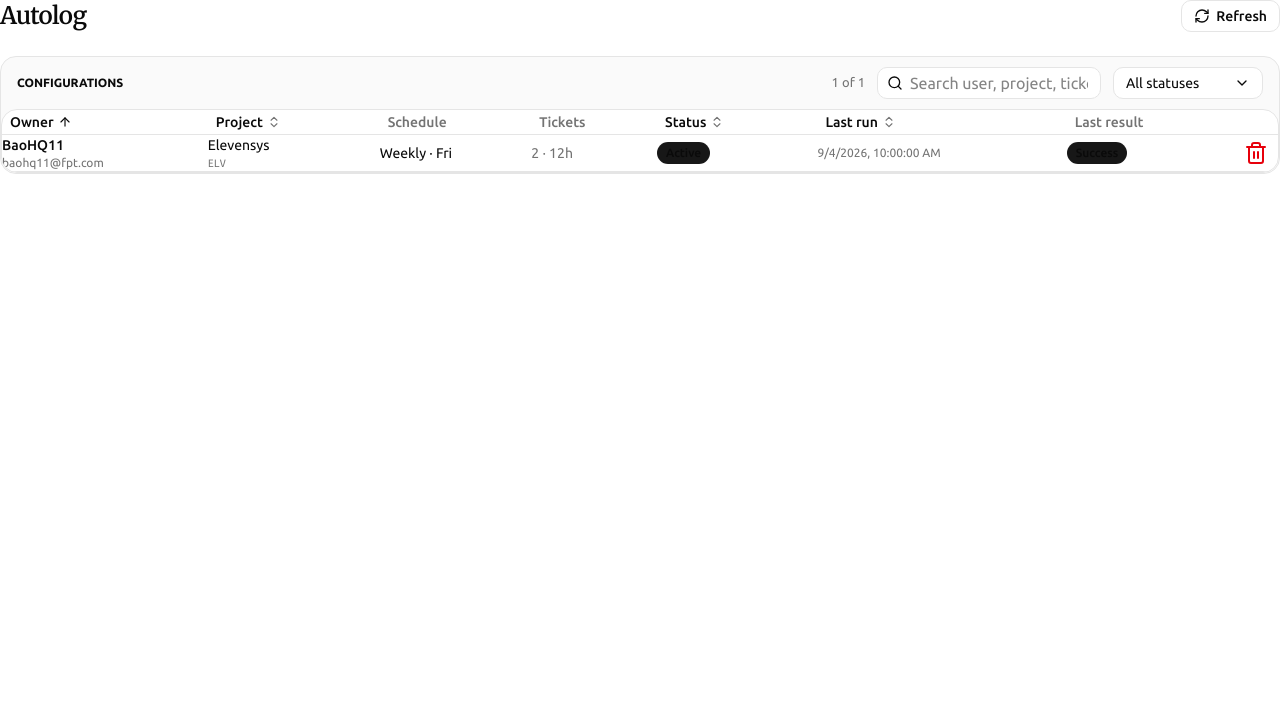
Test: AutologTable › names the owner in the delete confirmation
Click the button named "Delete the Elevensys configuration for BaoHQ11" at (1256, 153), box x1=1238 y1=135 x2=1274 y2=171
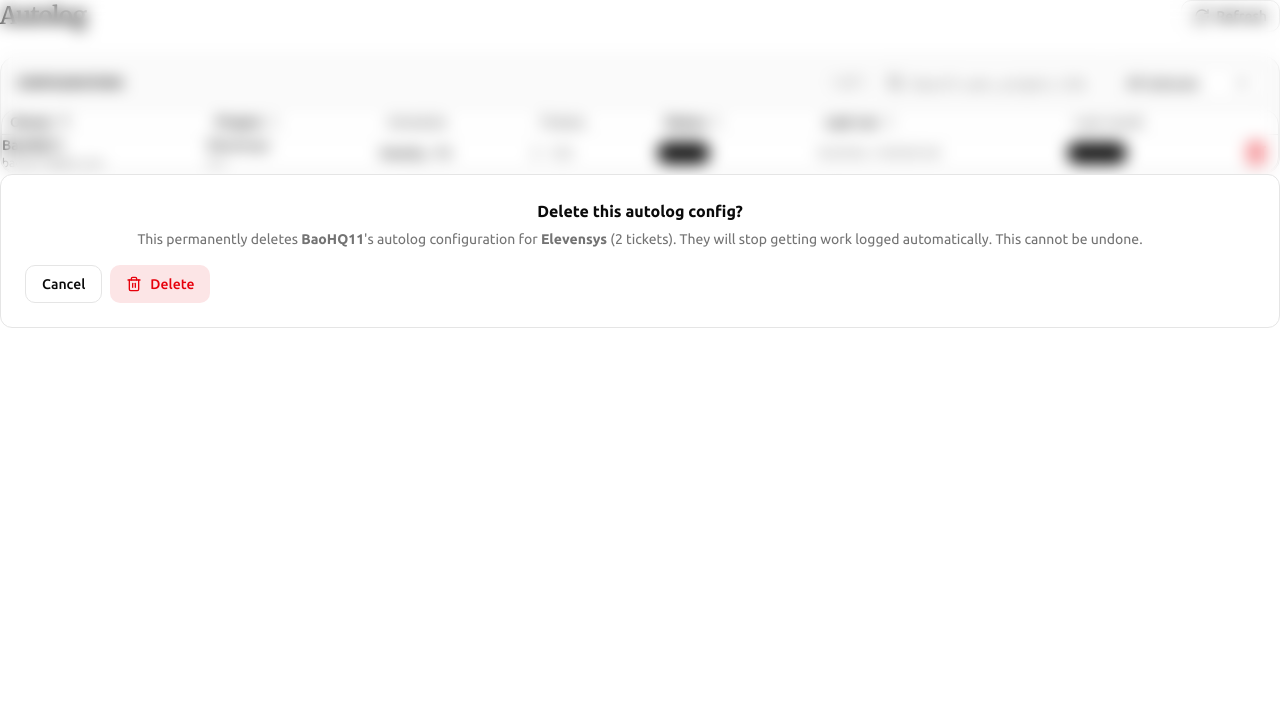
Now the text "autolog configuration for" is shown, box x1=364 y1=231 x2=538 y2=247
Now the text "BaoHQ11" is shown, box x1=301 y1=231 x2=364 y2=247
